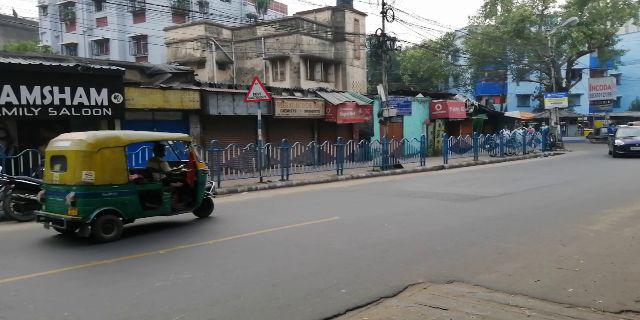Autorickshaw: (43, 130, 215, 236)
